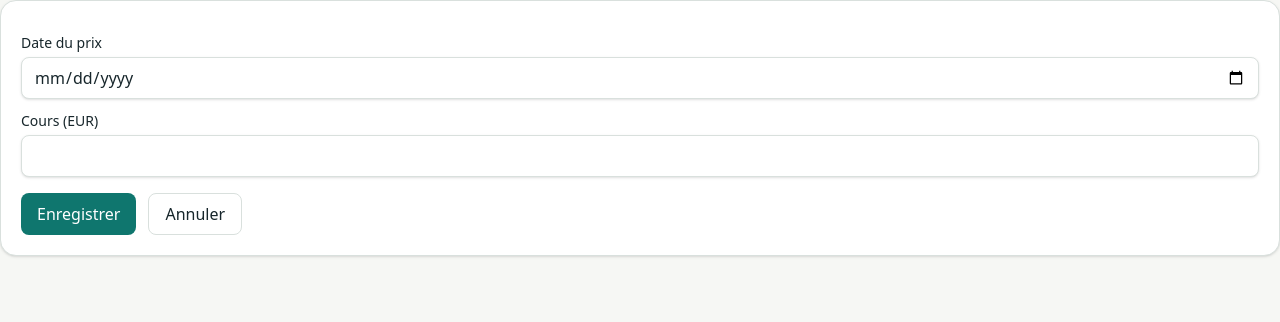
Test: actions et ETF › refuse un prix nul, illisible ou une date manquante
This screenshot has width=1280, height=322.
Click the button "Enregistrer": [79, 214] box [21, 193, 136, 235]
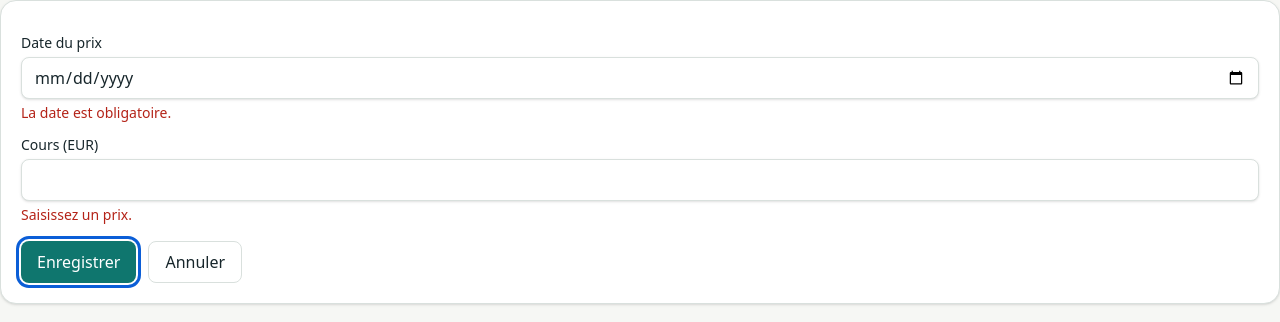
Check: the text "La date est obligatoire." is shown, box [21, 103, 171, 122]
Check: the text "Saisissez un prix." is shown, box [21, 205, 132, 224]
In the date field labelled "Date du prix": [640, 78] box [21, 57, 1259, 99], type "2026-10-20"
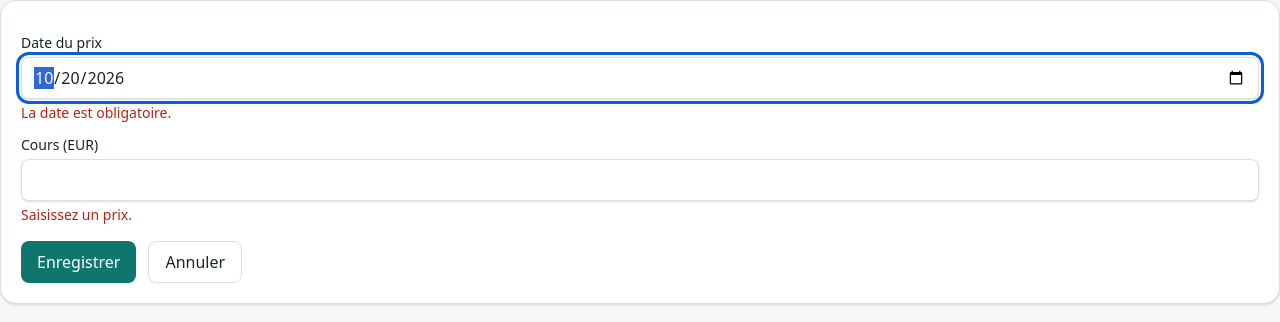
In the field labelled "Cours (EUR)": [640, 180] box [21, 159, 1259, 201], type "0"
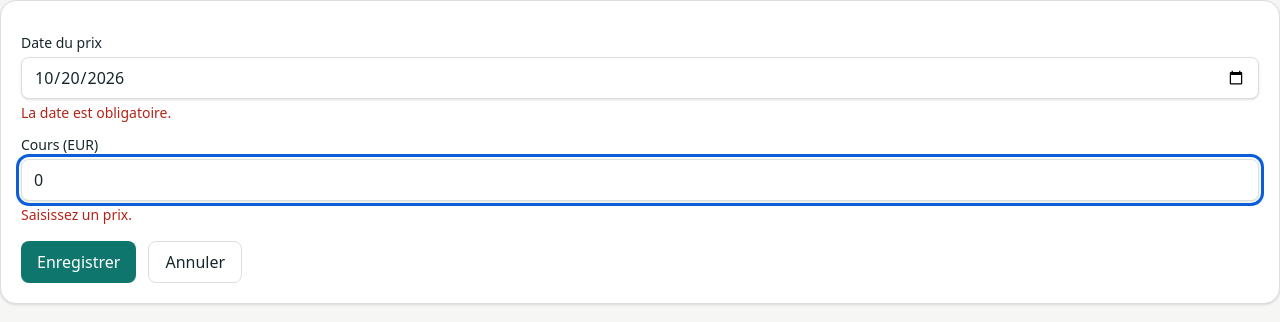
Click the button "Enregistrer": [79, 262] box [21, 241, 136, 283]
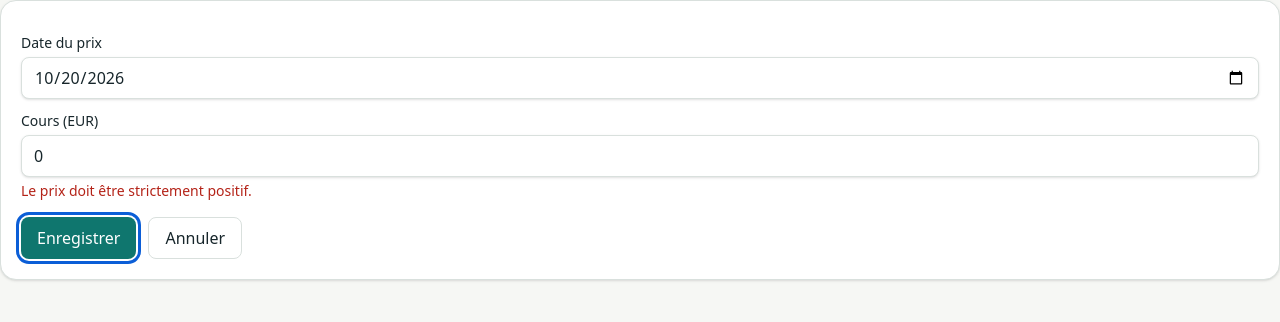
Check: the text "Le prix doit être strictement positif." is shown, box [21, 181, 252, 200]
Replace the text in the field labelled "Cours (EUR)" with "abc": [640, 156] box [21, 135, 1259, 177]
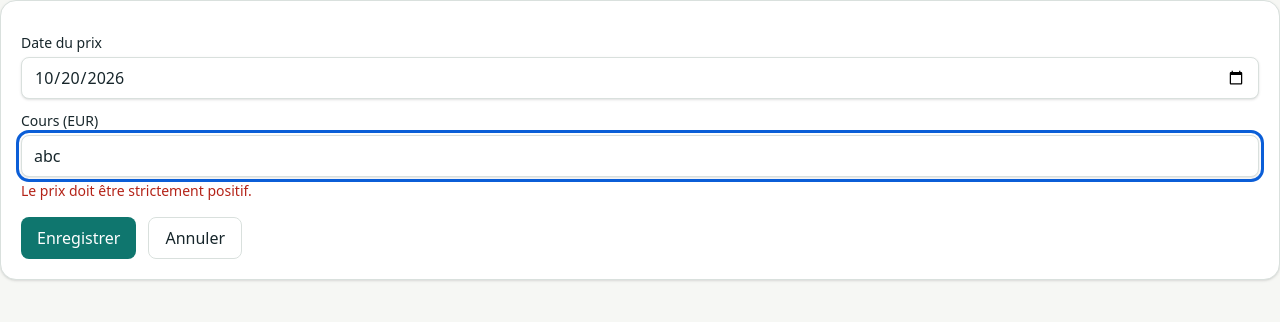
Click the button "Enregistrer": [79, 238] box [21, 217, 136, 259]
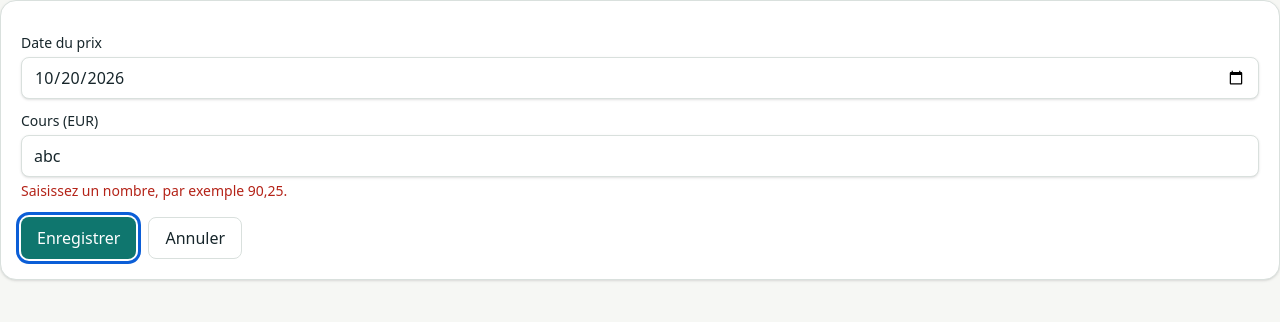
Check: the text "Saisissez un nombre, par exemple 90,25." is shown, box [21, 181, 287, 200]
